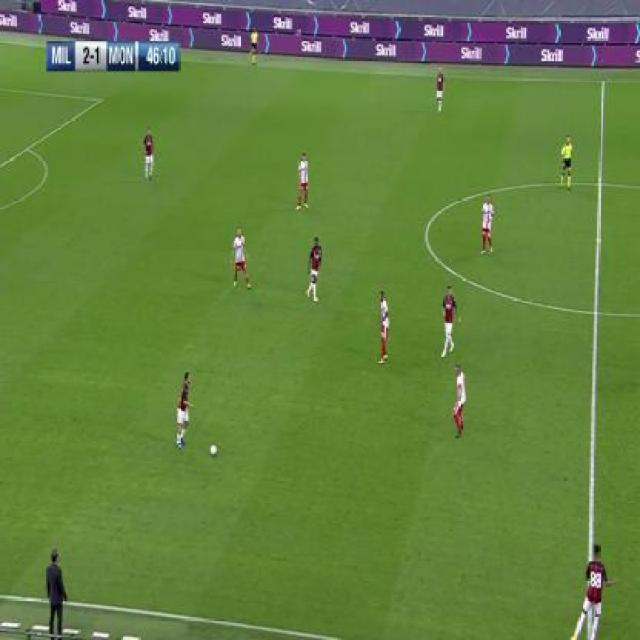ball: (209, 441, 218, 458)
player: (573, 543, 618, 640), (46, 546, 69, 640), (440, 283, 462, 359), (174, 370, 194, 450), (230, 226, 252, 292), (451, 362, 468, 441), (375, 288, 391, 367), (306, 235, 323, 304), (479, 192, 496, 257), (294, 150, 311, 213), (558, 133, 575, 192), (142, 126, 156, 183), (435, 65, 446, 116), (249, 22, 260, 67)
